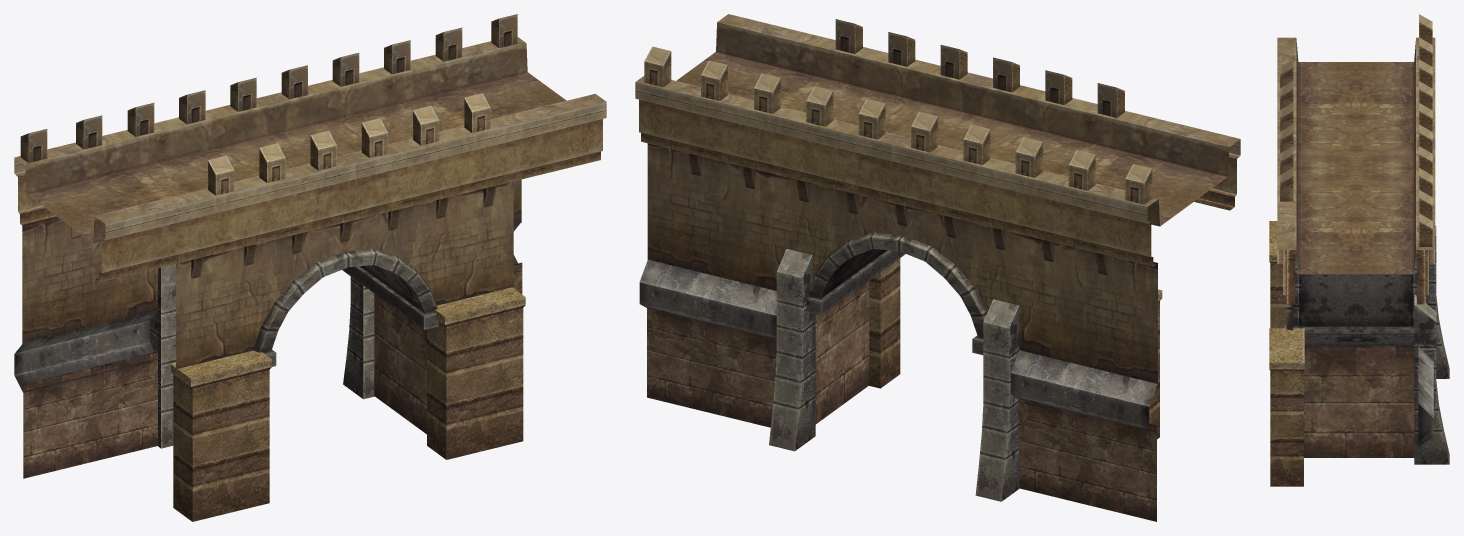
Rendered from SC_tamalagebi_02.FBX.
3 views of the same model, side by side, from view 1: azimuth 30°, elevation 25°; view 2: azimuth 150°, elevation 25°; view 3: azimuth 270°, elevation 25° (orthographic). The views are drawn at different scales.
Visible parts, largest first — view 1: SC_tamalagebi_02; view 2: SC_tamalagebi_02; view 3: SC_tamalagebi_02.
Boxes of the visible parts, x1=… form: SC_tamalagebi_02: x1=14, y1=14, x2=606, y2=521; SC_tamalagebi_02: x1=635, y1=14, x2=1240, y2=521; SC_tamalagebi_02: x1=1269, y1=14, x2=1449, y2=486.
Size of the model in its own units: 1094 by 718 by 392.
